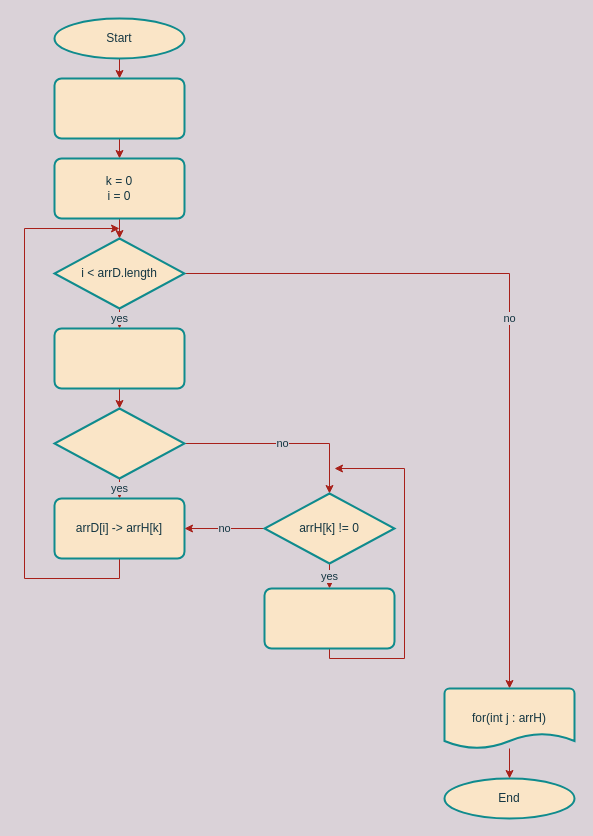
The diagram is 593 pixels wide and 836 high, and some of its shapes have lost their labels. The centre of each missing label's shape, as x and y in pixels:
(k + 1) % arrH[k] -> k: point 329,618
arrD={12,25,30,20,8,42,35} arrH[11]: point 119,108
arrD[i] % arrH.length -> k: point 119,358
arrH[k] = 0: point 119,443
